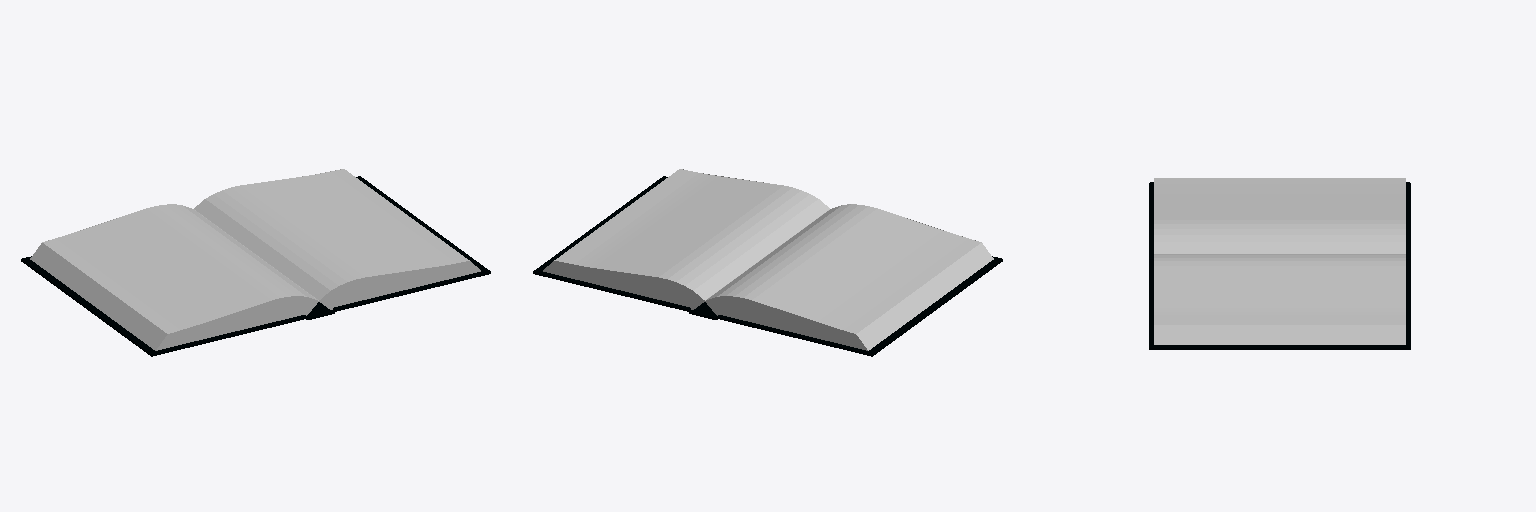
Rendered from open_book.obj.
3 views of the same model, side by side, from view 1: azimuth 30°, elevation 25°; view 2: azimuth 150°, elevation 25°; view 3: azimuth 270°, elevation 25° (orthographic).
Visible parts, largest first — view 1: Open Book_aiStandardSurface1SG.001, Open Book_aiStandardSurface2SG.001; view 2: Open Book_aiStandardSurface1SG.001, Open Book_aiStandardSurface2SG.001; view 3: Open Book_aiStandardSurface1SG.001, Open Book_aiStandardSurface2SG.001.
Part boxes in pixels (x1,y1,x2,y2): Open Book_aiStandardSurface1SG.001: (30,169,480,350); Open Book_aiStandardSurface2SG.001: (21,176,490,356); Open Book_aiStandardSurface1SG.001: (543,169,993,350); Open Book_aiStandardSurface2SG.001: (533,176,1002,356); Open Book_aiStandardSurface1SG.001: (1154,178,1405,344); Open Book_aiStandardSurface2SG.001: (1149,182,1410,349).
Size of the model in its own units: 1.56 by 0.1172 by 1.04.